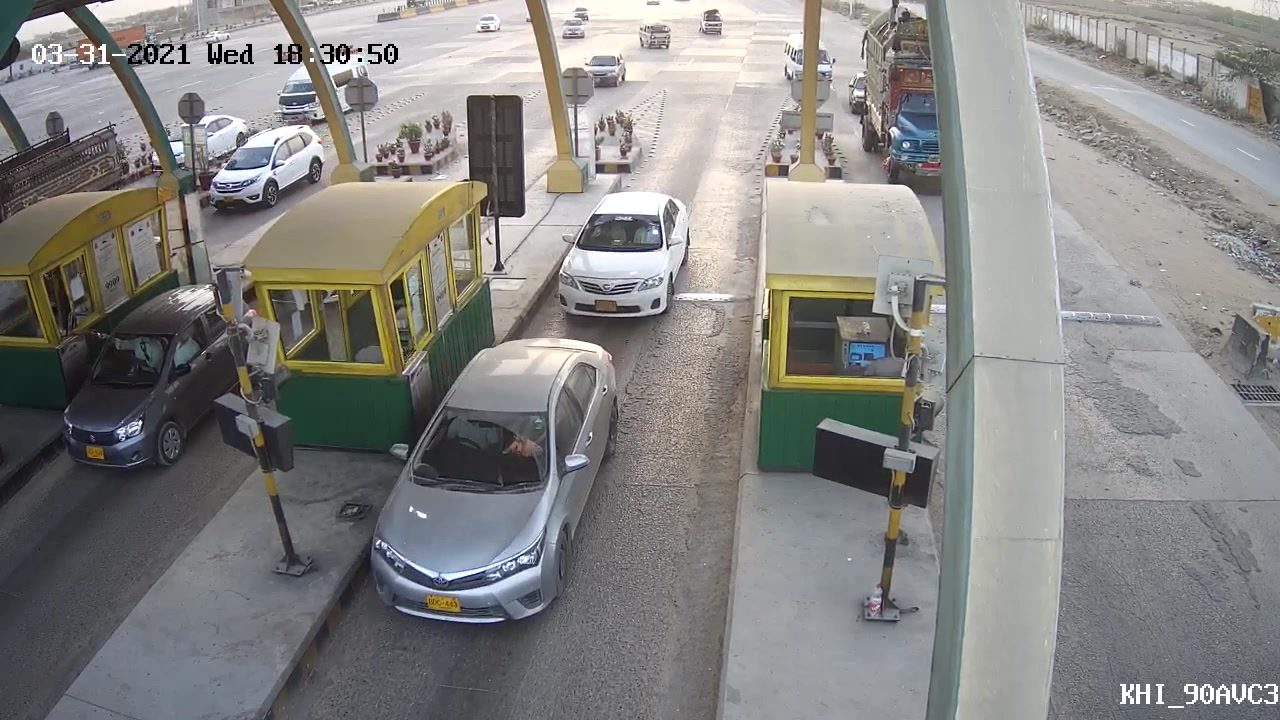F1: (359, 333, 632, 632), (552, 186, 695, 326)
